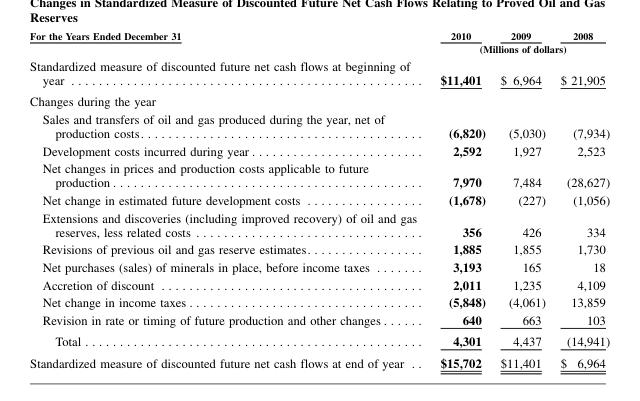table: (29, 29, 609, 369)
table column: (29, 29, 427, 369), (427, 29, 492, 369), (492, 29, 552, 369), (552, 29, 609, 369)
table column header: (29, 29, 609, 56)
table projected row header: (29, 90, 609, 109)
table row: (29, 56, 609, 90), (29, 109, 609, 141), (29, 159, 609, 190), (29, 208, 609, 239), (29, 330, 609, 351), (29, 310, 609, 330), (29, 90, 609, 109), (29, 141, 609, 159), (29, 190, 609, 208), (29, 239, 609, 257), (29, 257, 609, 275), (29, 292, 609, 310), (29, 351, 609, 369), (29, 275, 609, 292), (29, 41, 609, 56), (29, 29, 609, 41)
table spanning cell: (29, 29, 427, 56), (427, 41, 609, 56)
